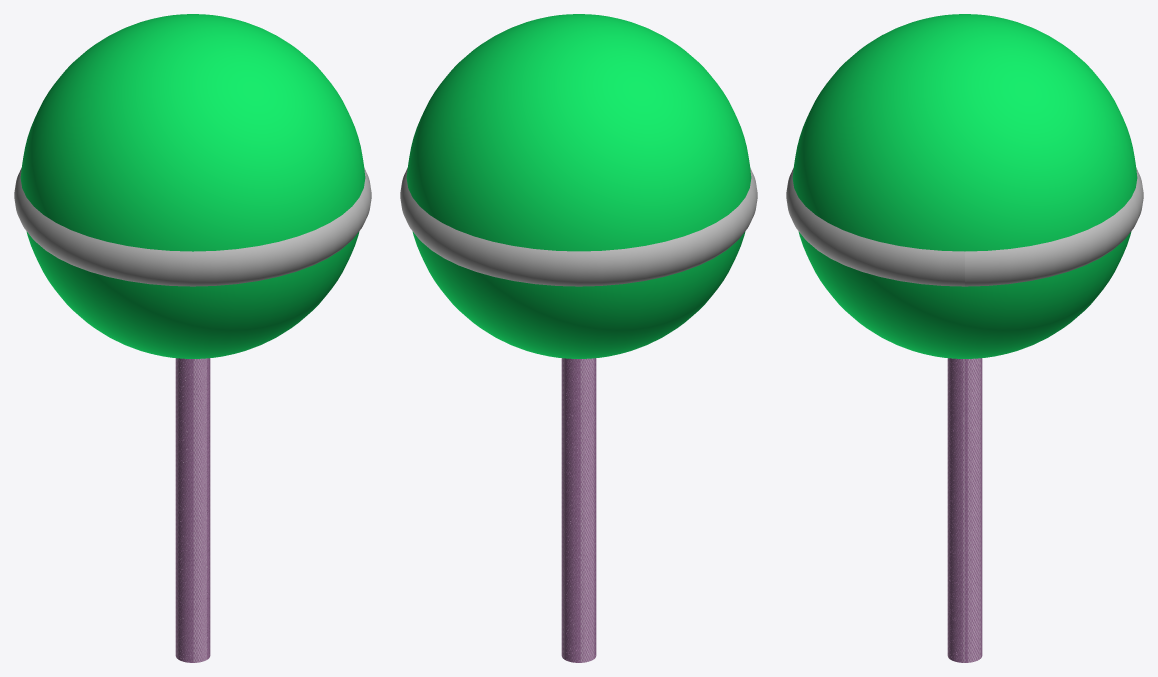
Rendered from pinkso.glb.
3 views of the same model, side by side, from view 1: azimuth 30°, elevation 25°; view 2: azimuth 150°, elevation 25°; view 3: azimuth 270°, elevation 25° (orthographic).
Parts seen in each view (by area): view 1: Kugel, Torus, Zylinder; view 2: Kugel, Torus, Zylinder; view 3: Kugel, Torus, Zylinder.
Part boxes in pixels (x1=…): Kugel: x1=20, y1=14, x2=365, y2=358; Torus: x1=14, y1=168, x2=371, y2=286; Zylinder: x1=175, y1=358, x2=210, y2=662; Kugel: x1=406, y1=14, x2=751, y2=358; Torus: x1=400, y1=168, x2=757, y2=286; Zylinder: x1=561, y1=358, x2=596, y2=662; Kugel: x1=792, y1=14, x2=1137, y2=358; Torus: x1=786, y1=168, x2=1143, y2=286; Zylinder: x1=947, y1=358, x2=982, y2=662.
Bounding box in the file's own units: 1.16 × 2.24 × 1.16.
Materials: 3 (1 with a texture image).
